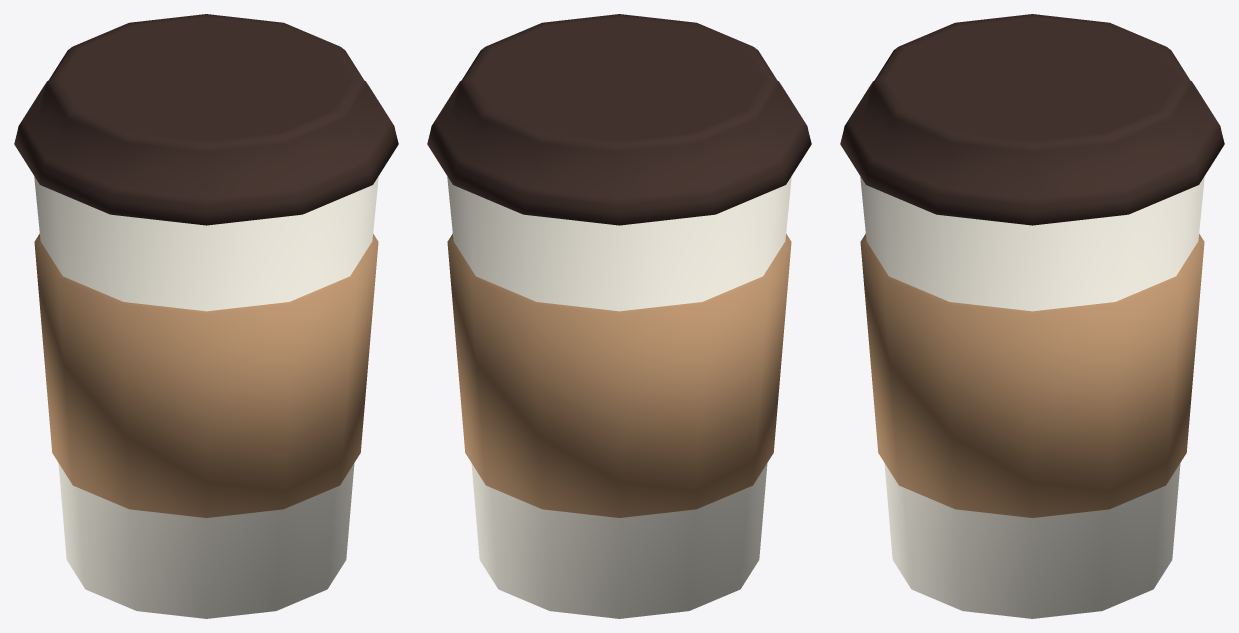
3 views of the same model, side by side, from view 1: azimuth 30°, elevation 25°; view 2: azimuth 150°, elevation 25°; view 3: azimuth 270°, elevation 25° (orthographic).
Visible parts, largest first — view 1: lattebody, lattelid; view 2: lattebody, lattelid; view 3: lattebody, lattelid.
Part boxes in pixels (x1=…): lattebody: x1=34, y1=176, x2=378, y2=618; lattelid: x1=14, y1=14, x2=398, y2=225; lattebody: x1=447, y1=176, x2=791, y2=618; lattelid: x1=427, y1=14, x2=811, y2=225; lattebody: x1=860, y1=176, x2=1204, y2=618; lattelid: x1=840, y1=14, x2=1224, y2=225.
Bounding box in the file's own units: 2.56 × 3.53 × 2.56.
